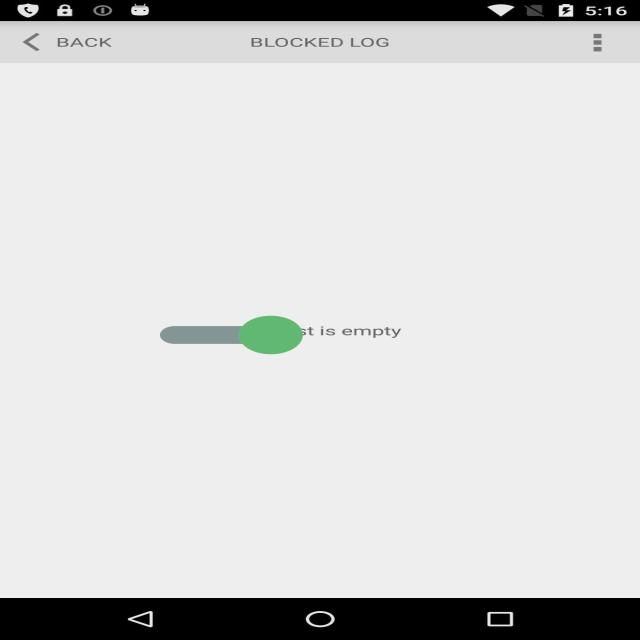social proof: (160, 292, 303, 378)
